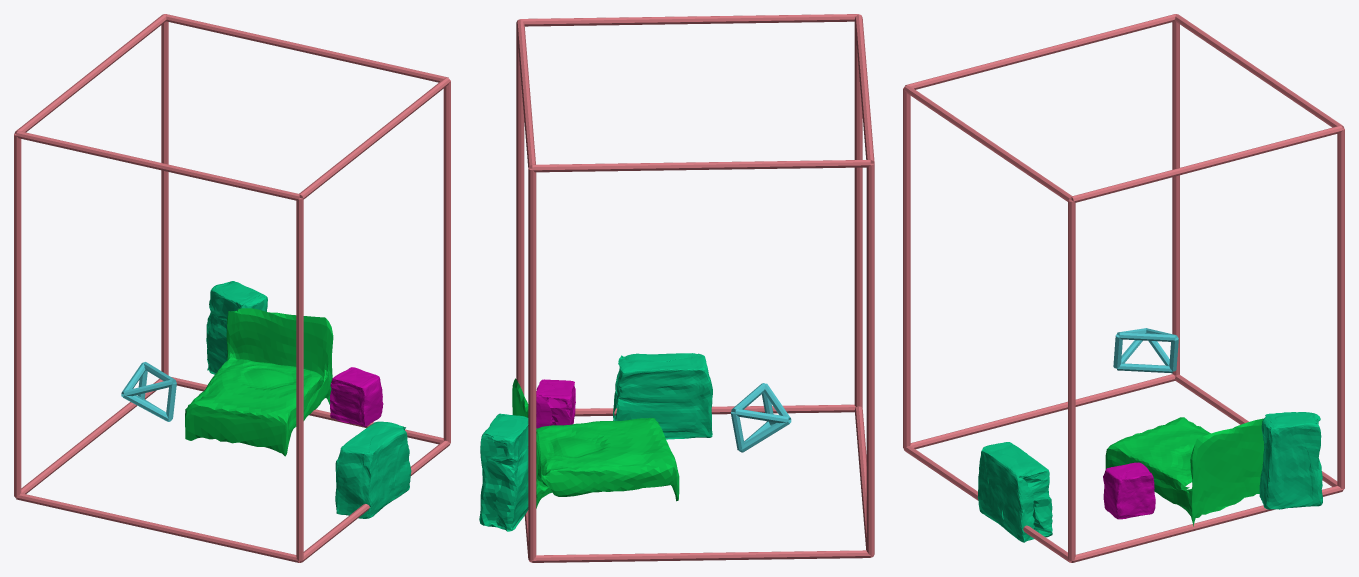
3 views of the same model, side by side, from view 1: azimuth 30°, elevation 25°; view 2: azimuth 150°, elevation 25°; view 3: azimuth 270°, elevation 25° (orthographic). The views are drawn at different scales.
Parts seen in each view (by area): view 1: world; view 2: world; view 3: world.
Part boxes in pixels (box(x1,y1,x2,y2)): world: box(14, 14, 450, 562); world: box(479, 14, 874, 562); world: box(903, 14, 1344, 562).
Bounding box in the file's own units: 5.86 × 5.55 × 5.89.
